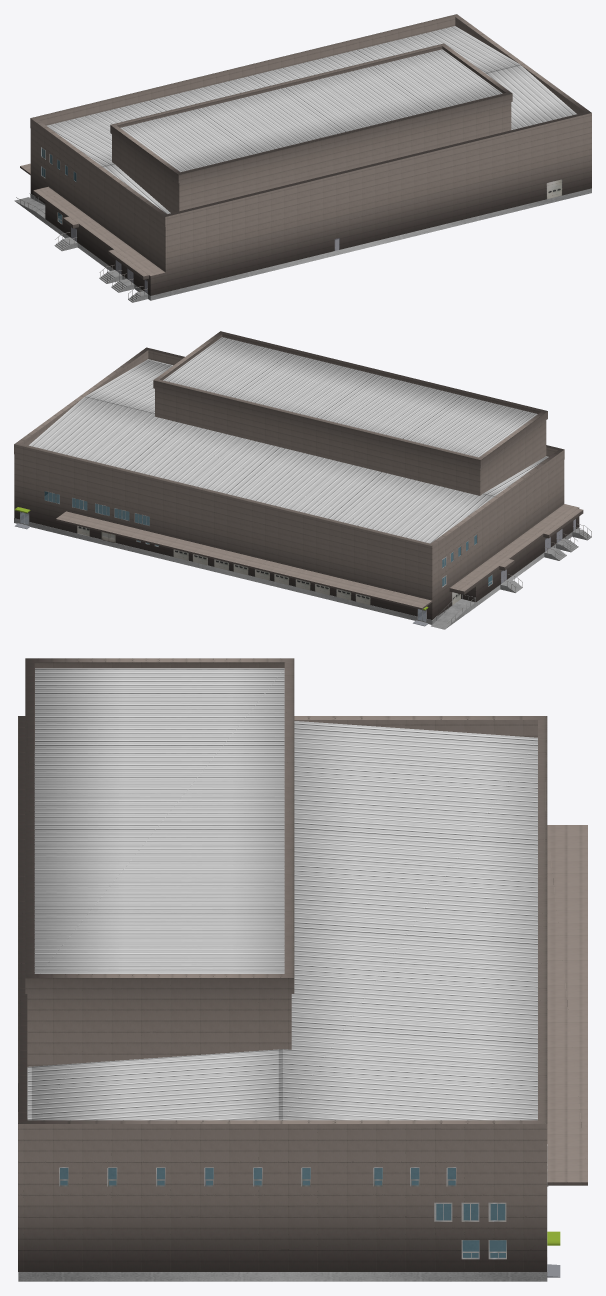
File: 07-GC-OUT-Logistics.glb
The picture shows the model from 3 angles, top to bottom: view 1: azimuth 30°, elevation 25°; view 2: azimuth 150°, elevation 25°; view 3: azimuth 270°, elevation 25°; orthographic projection. The views are drawn at different scales.
Parts seen in each view (by area): view 1: ROOF, Rectangle1056, Line2330, Line2333, Line2329, Logistics-2F, Rectangle730, Line2331, Line396, Box2769; view 2: Line2333, ROOF, Rectangle1056, Line2329, Logistics-2F, Line2330, Line2331, Line396, Box042, Rectangle730, Box2769, Box005 (+1 smaller); view 3: Line2333, ROOF, Rectangle1056, Line2330, Rectangle730, Logistics-2F, Line2329, Box042, Line2331, Line396, Rectangle914.
Boxes of the visible parts, x1,y1,x2,y2 form: ROOF: [120, 49, 502, 172]; Rectangle1056: [30, 123, 591, 254]; Line2330: [30, 14, 591, 226]; Line2333: [46, 26, 576, 214]; Line2329: [112, 102, 511, 213]; Logistics-2F: [30, 150, 591, 272]; Rectangle730: [30, 166, 591, 295]; Line2331: [110, 43, 512, 182]; Line396: [14, 188, 591, 302]; Box2769: [33, 186, 165, 279]; Line2333: [29, 359, 548, 543]; ROOF: [163, 337, 537, 457]; Rectangle1056: [14, 454, 564, 582]; Line2329: [155, 389, 546, 495]; Logistics-2F: [14, 481, 564, 600]; Line2330: [14, 347, 564, 555]; Line2331: [153, 331, 547, 467]; Line396: [14, 493, 591, 629]; Box042: [56, 511, 432, 609]; Rectangle730: [14, 492, 579, 619]; Box2769: [449, 504, 583, 594]; Box005: [77, 526, 461, 605]; Line2333: [27, 721, 537, 1120]; ROOF: [35, 668, 284, 973]; Rectangle1056: [18, 1144, 546, 1197]; Line2330: [18, 716, 547, 1143]; Rectangle730: [18, 1234, 546, 1271]; Logistics-2F: [18, 1119, 546, 1234]; Line2329: [27, 678, 291, 1066]; Box042: [547, 825, 587, 1185]; Line2331: [25, 658, 294, 993]; Line396: [18, 1067, 547, 1281]; Rectangle914: [59, 1144, 547, 1259].
Size of the model in its own units: 88.02 by 21.56 by 48.5.
13 materials, 10 textured.
